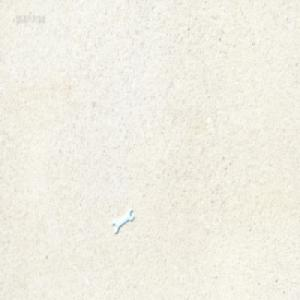Wrench: (112, 207, 134, 233)
